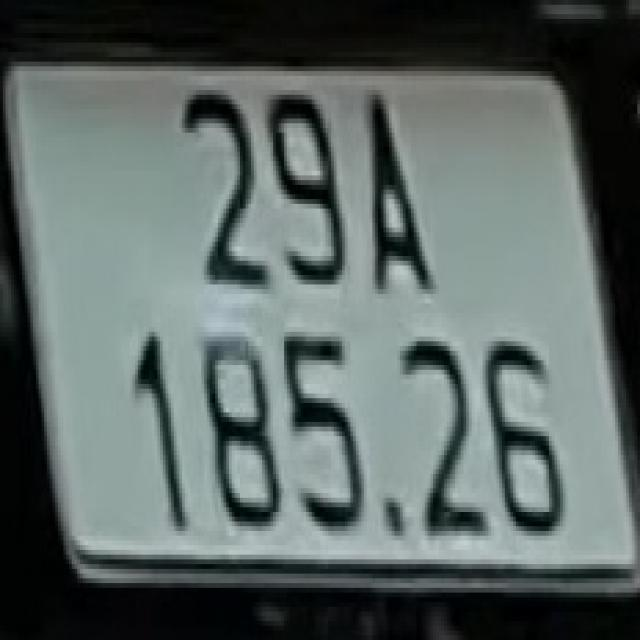1: (124, 327, 190, 536)
2: (177, 80, 270, 290), (398, 332, 486, 536)
5: (281, 322, 367, 531)
6: (486, 332, 566, 540)
8: (202, 322, 282, 531)
9: (268, 85, 348, 294)
A: (358, 80, 442, 298)
